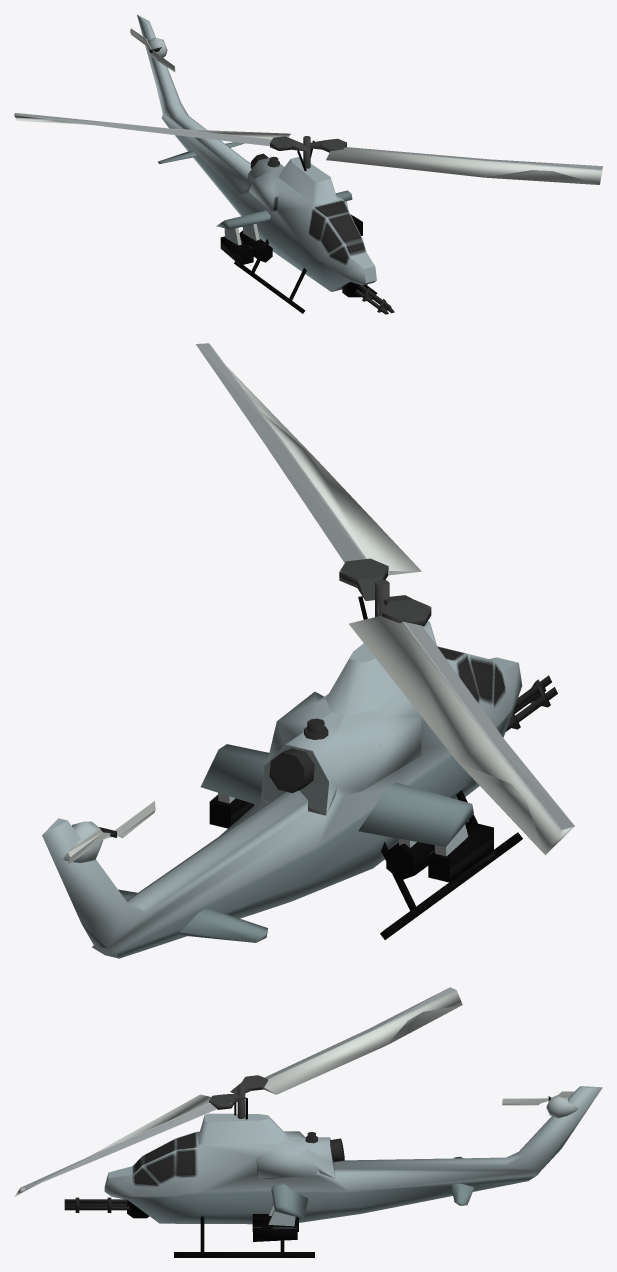
File: cobra.DAE
The picture shows the model from 3 angles, top to bottom: view 1: azimuth 30°, elevation 25°; view 2: azimuth 150°, elevation 25°; view 3: azimuth 270°, elevation 25°; orthographic projection. The views are drawn at different scales.
Parts seen in each view (by area): view 1: ov3d_Cobra; view 2: ov3d_Cobra; view 3: ov3d_Cobra.
Boxes of the visible parts, x1,y1,x2,y2 form: ov3d_Cobra: [14, 14, 602, 314]; ov3d_Cobra: [42, 343, 574, 958]; ov3d_Cobra: [14, 987, 602, 1257].
Size of the model in its own units: 2403 by 853 by 2965.
1 material, 1 textured.
